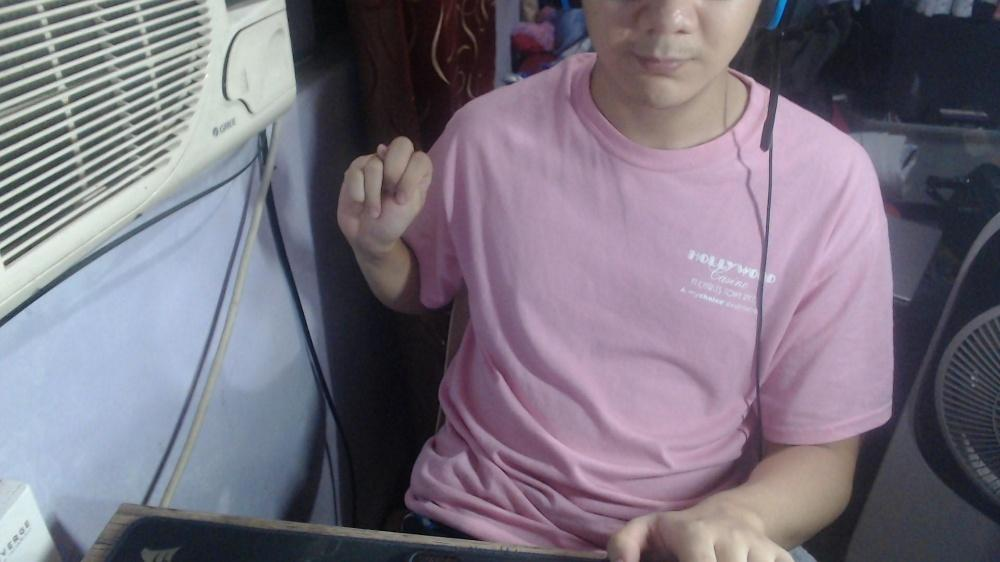n: (333, 134, 434, 252)
